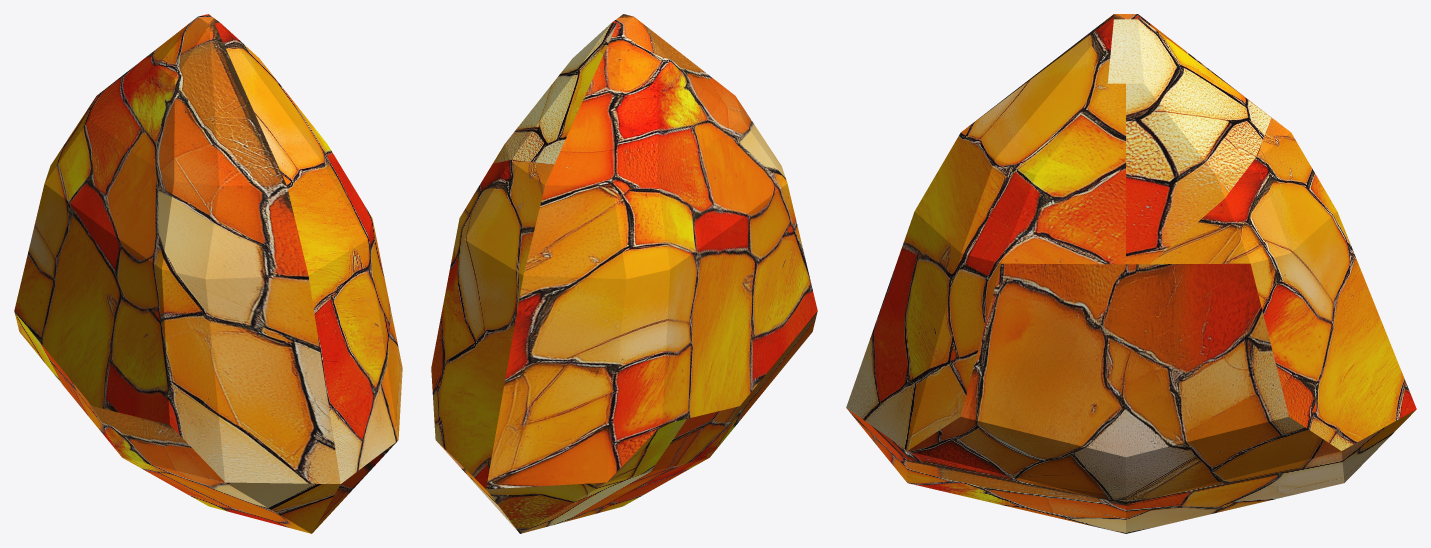
File: gemstone5Orange.glb
The picture shows the model from 3 angles, left to right: view 1: azimuth 30°, elevation 25°; view 2: azimuth 150°, elevation 25°; view 3: azimuth 270°, elevation 25°; orthographic projection. The views are drawn at different scales.
Parts seen in each view (by area): view 1: gemstone4; view 2: gemstone4; view 3: gemstone4.
Boxes of the visible parts, x1,y1,x2,y2 form: gemstone4: [14, 14, 402, 533]; gemstone4: [431, 14, 817, 533]; gemstone4: [846, 14, 1416, 533].
Size of the model in its own units: 0.5 by 1 by 1.
1 material, 1 textured.
